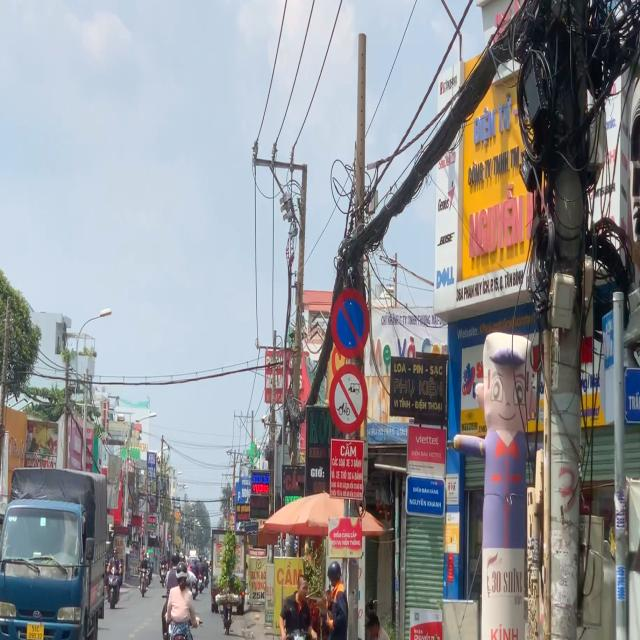Cam con lai: (328, 365, 368, 434)
Cam do: (328, 289, 372, 361)
